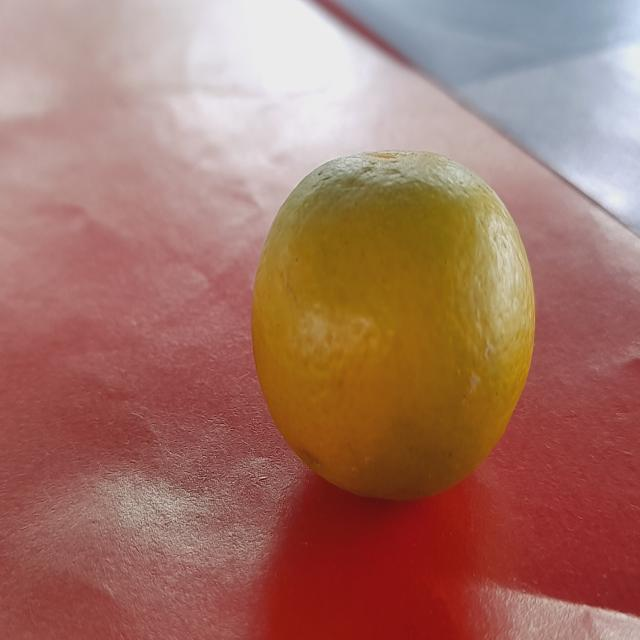greening: (246, 145, 541, 506)
